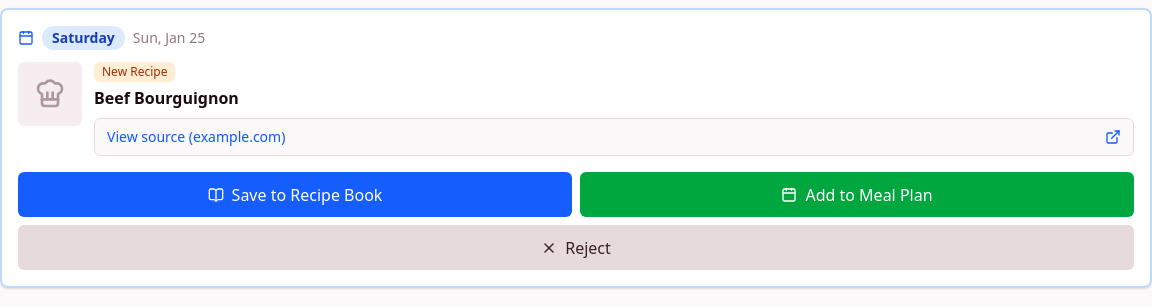
MealProposalBlock › new recipe interactions › shows warning when Add to Meal Plan is clicked for unsaved recipe
What coordinates should you click on to do the following:
click the button "Add to Meal Plan"
I would click on:
 (857, 195)
Its box is [580,172,1134,217].
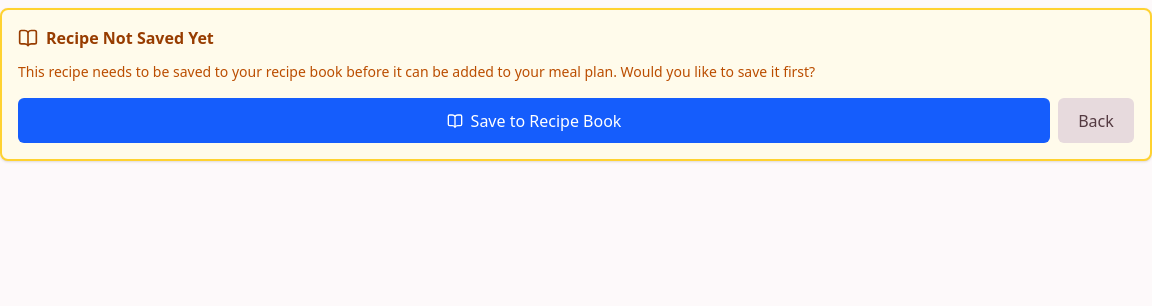
Expected: the button "Save to Recipe Book" is shown, [18,98,1050,143]
Expected: the text "recipe needs to be saved" is shown, [18,62,815,81]
